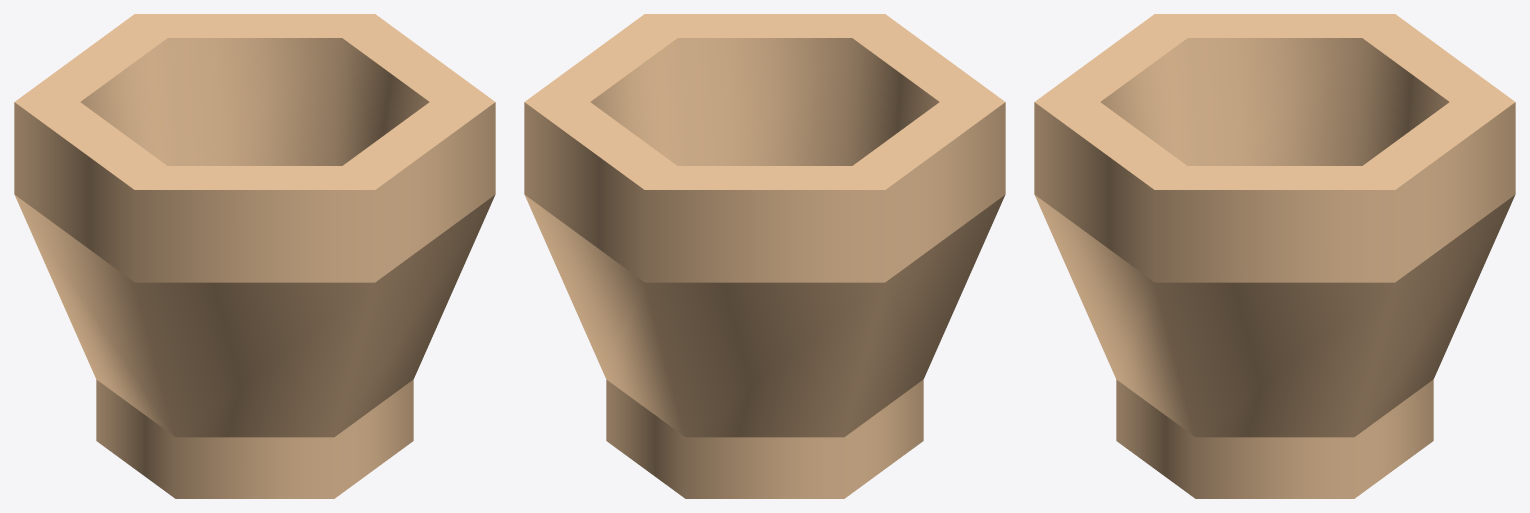
Rendered from iceCreamCup.GLB.
The picture shows the model from 3 angles, left to right: view 1: azimuth 30°, elevation 25°; view 2: azimuth 150°, elevation 25°; view 3: azimuth 270°, elevation 25°; orthographic projection.
Visible parts, largest first — view 1: iceCreamCup; view 2: iceCreamCup; view 3: iceCreamCup.
Part boxes in pixels (x1,y1,x2,y2): iceCreamCup: (14, 14, 495, 498); iceCreamCup: (524, 14, 1005, 498); iceCreamCup: (1034, 14, 1515, 498).
Size of the model in its own units: 0.2011 by 0.1804 by 0.2322.
